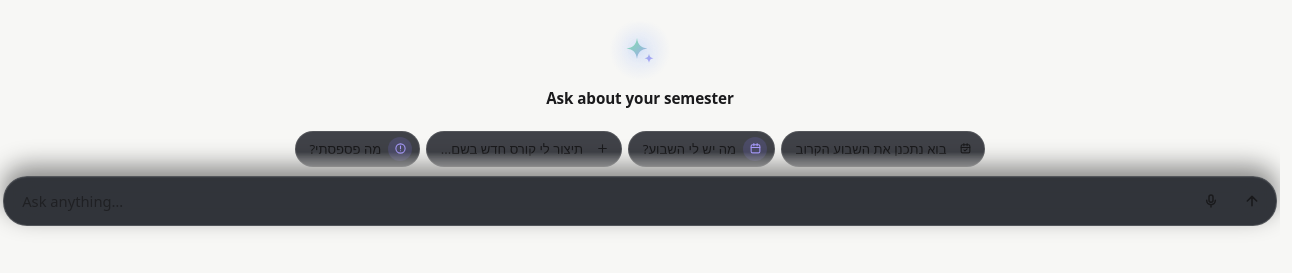
AgentPanel › sends a suggested prompt when tapped
Click the button "מה יש לי השבוע?" at (701, 149), box [628, 131, 775, 167]
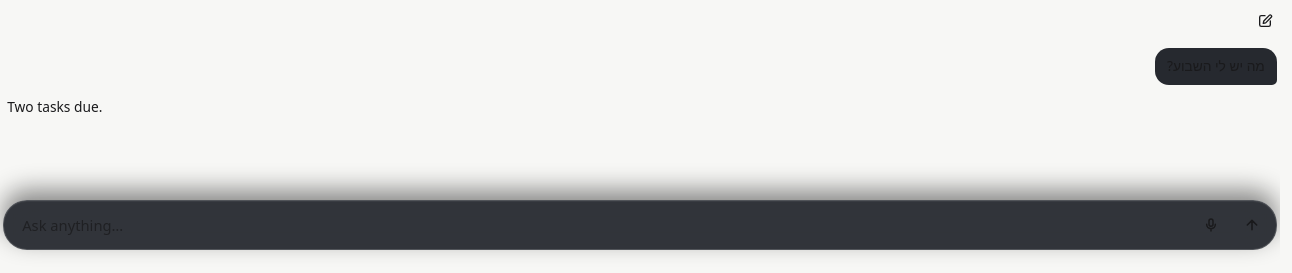
Expected: the text "Two tasks due." is shown, [7, 97, 102, 116]
